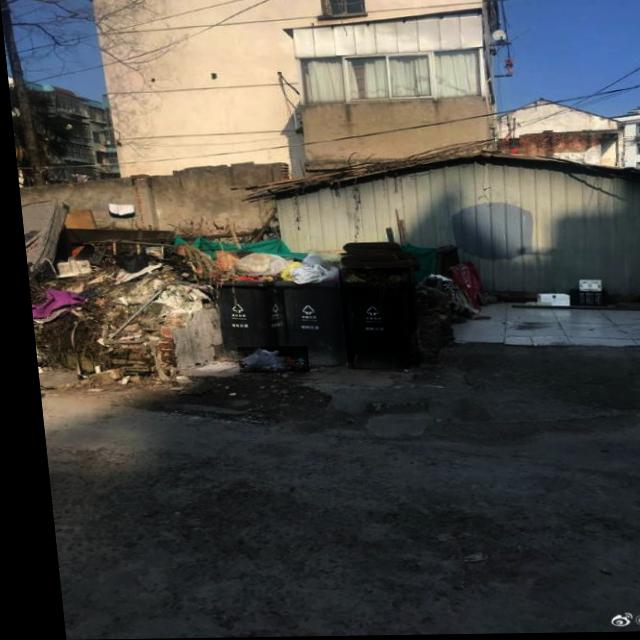garbage: (229, 347, 302, 374)
overflow: (264, 254, 344, 367), (332, 269, 413, 370), (202, 251, 281, 354)
